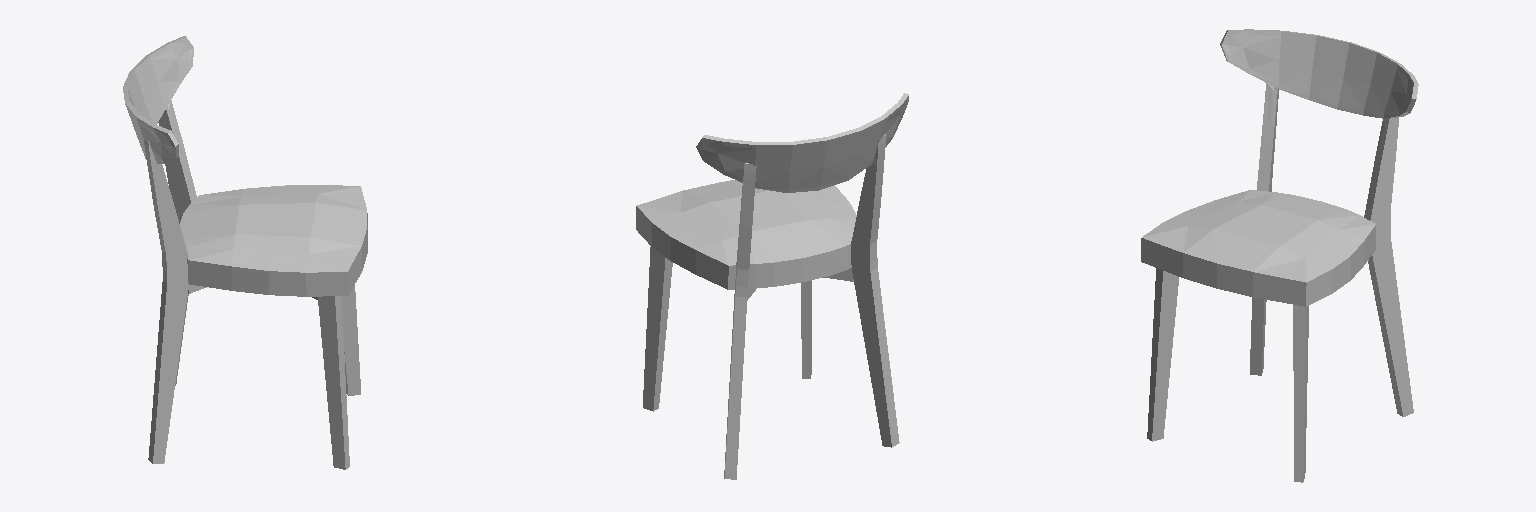
Rendered from uploads_files_775797_Elin+Side+Chair(1).obj.
3 renders of one model, left to right at view 1: azimuth 30°, elevation 25°; view 2: azimuth 150°, elevation 25°; view 3: azimuth 270°, elevation 25°, orthographic.
Visible parts, largest first — view 1: Box009, Box003, Plane006, Box004; view 2: Box009, Box003, Plane006, Box004; view 3: Box009, Plane006, Box003, Box004.
Boxes of the visible parts, x1=… form: Box009: x1=180, y1=185, x2=367, y2=296; Box003: x1=144, y1=100, x2=196, y2=463; Plane006: x1=123, y1=36, x2=193, y2=163; Box004: x1=318, y1=285, x2=360, y2=469; Box009: x1=636, y1=180, x2=856, y2=289; Box003: x1=724, y1=134, x2=899, y2=479; Plane006: x1=696, y1=93, x2=908, y2=192; Box004: x1=643, y1=247, x2=811, y2=411; Box009: x1=1141, y1=190, x2=1375, y2=306; Plane006: x1=1220, y1=29, x2=1418, y2=118; Box003: x1=1250, y1=83, x2=1413, y2=416; Box004: x1=1147, y1=268, x2=1308, y2=482.
Size of the model in its own units: 55.39 by 76.25 by 55.96.